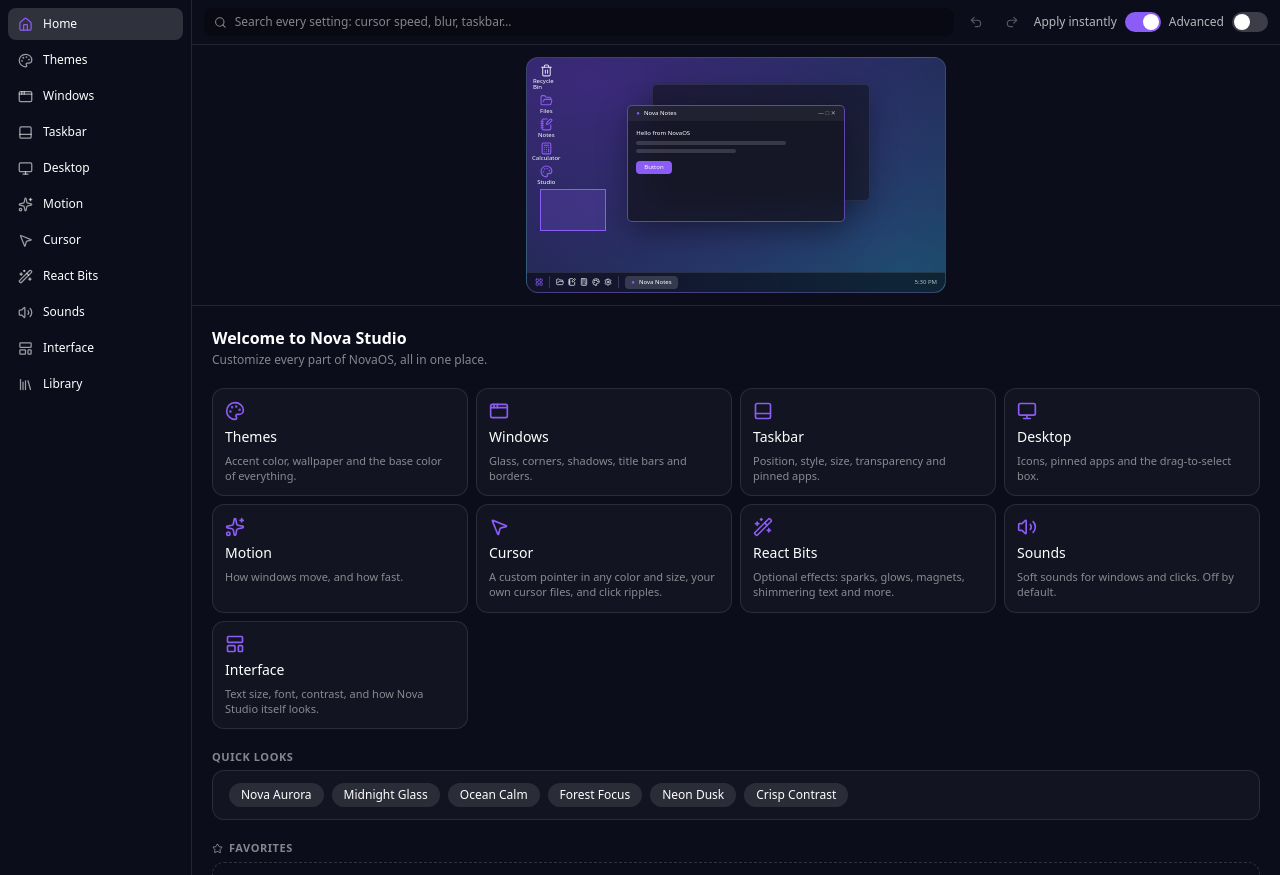
Test: instant apply, undo and redo › dragging a slider is one undo step
Click the button "Windows" at (96, 96), box [8,80,183,112]
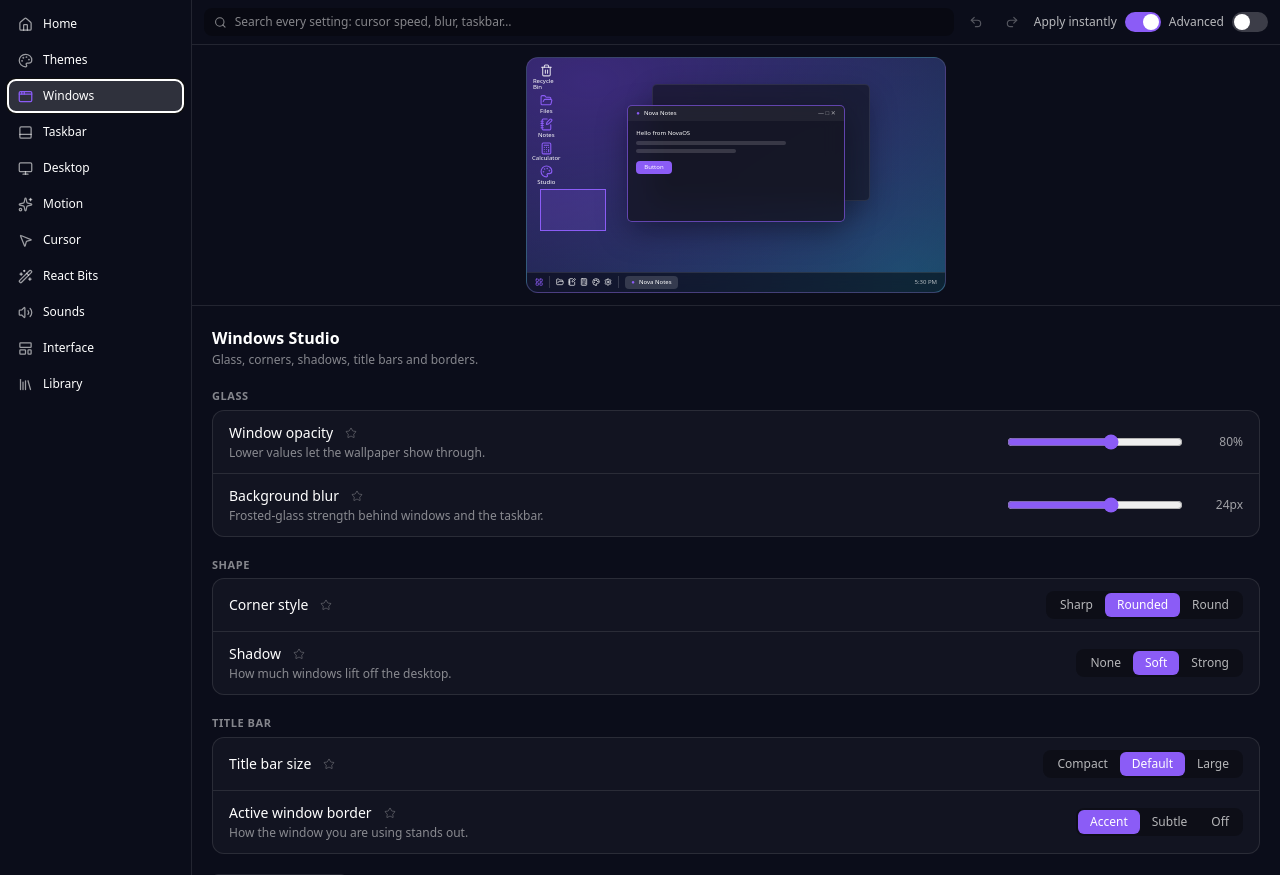
Set the slider named "Window opacity" to "0.7" at (1079, 442), box [1007,434,1183,450]
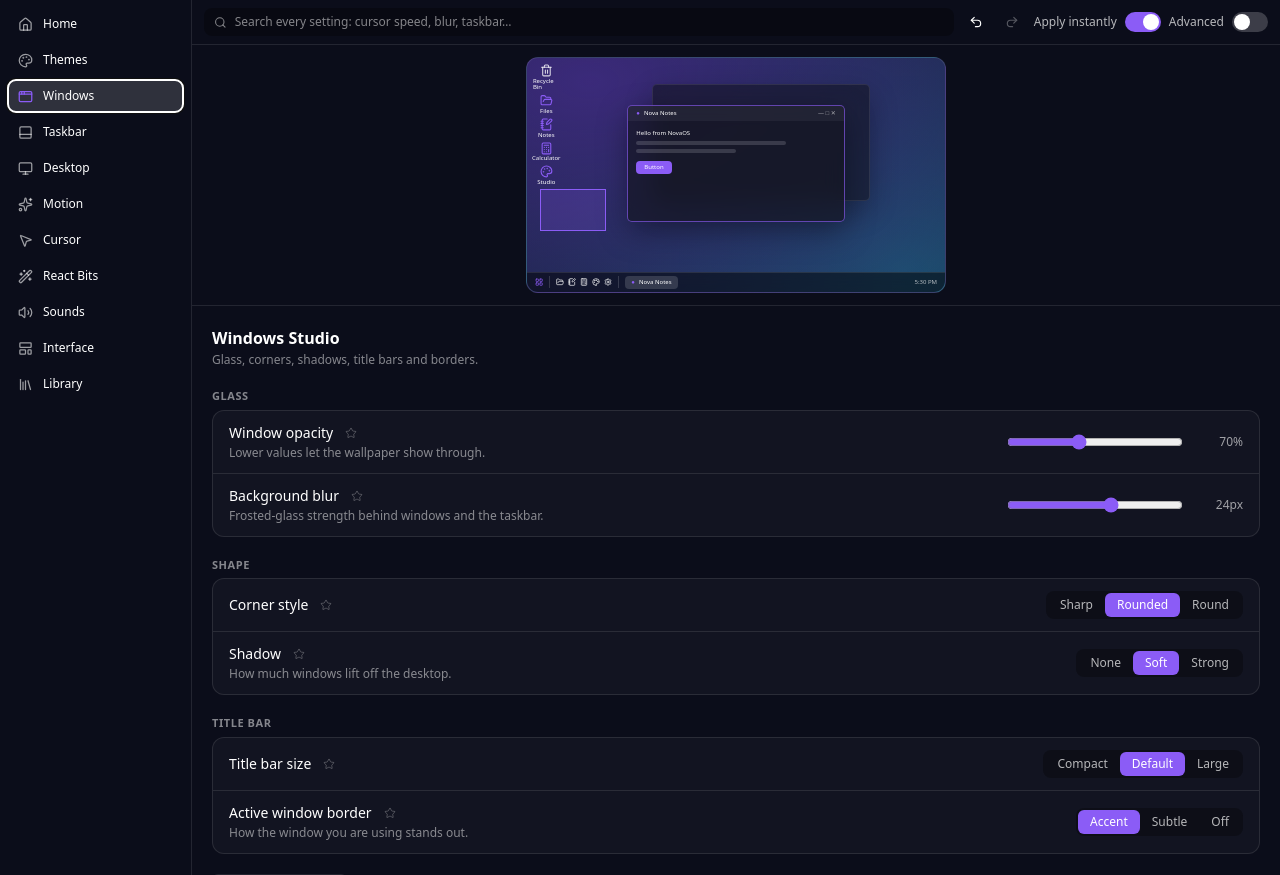
Set the slider named "Window opacity" to "0.6" at (1047, 442), box [1007,434,1183,450]
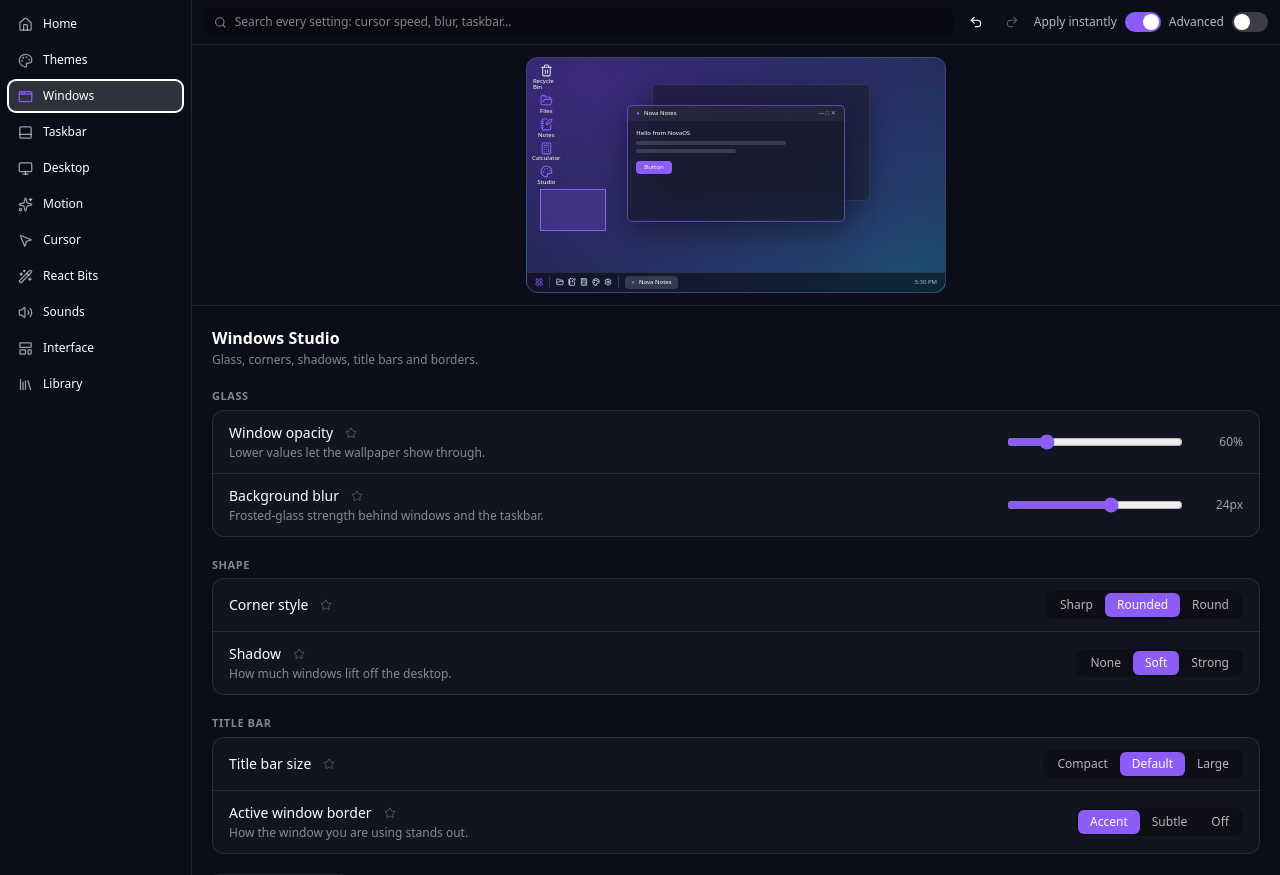
Set the slider named "Window opacity" to "0.55" at (1031, 442), box [1007,434,1183,450]
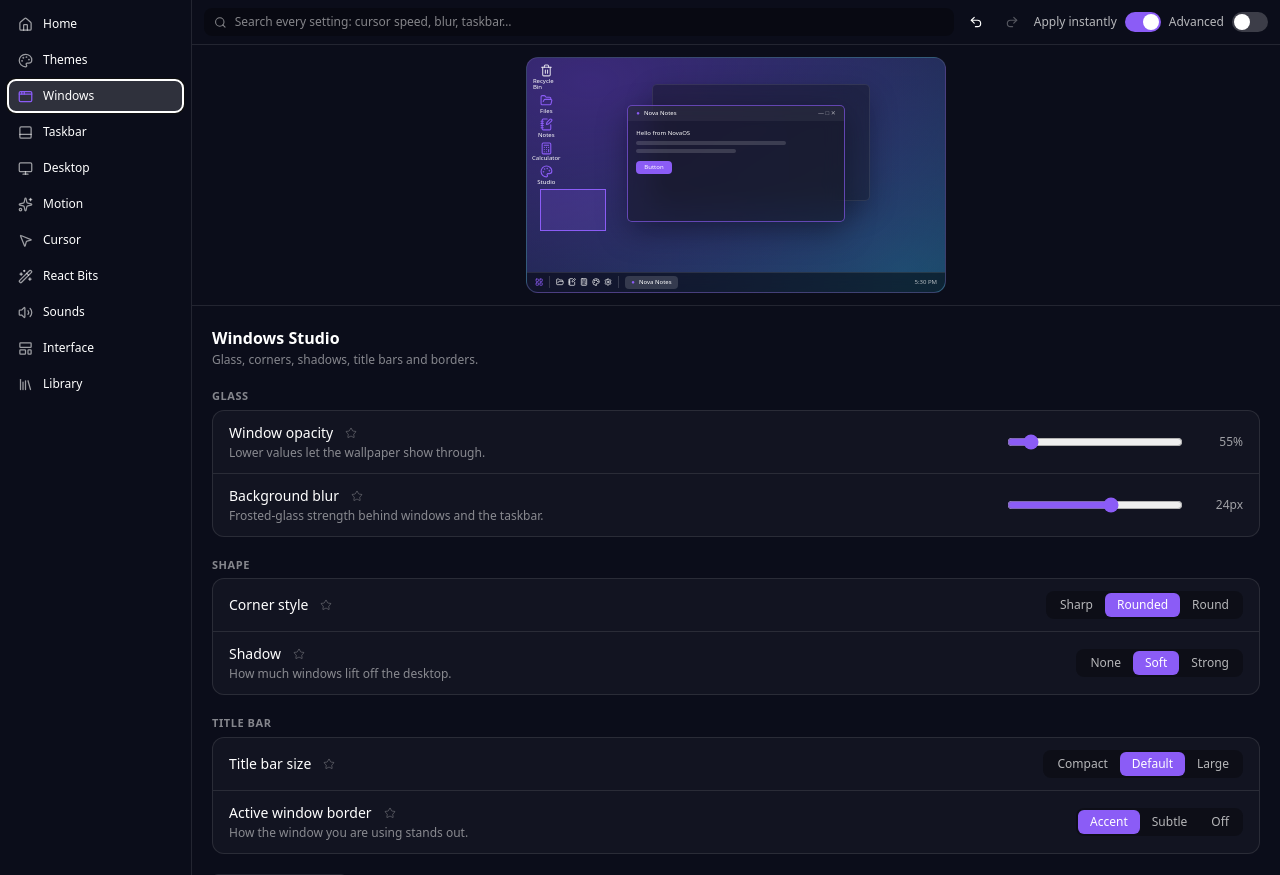
Click the button named "Undo" at (976, 22), box [962,8,990,36]
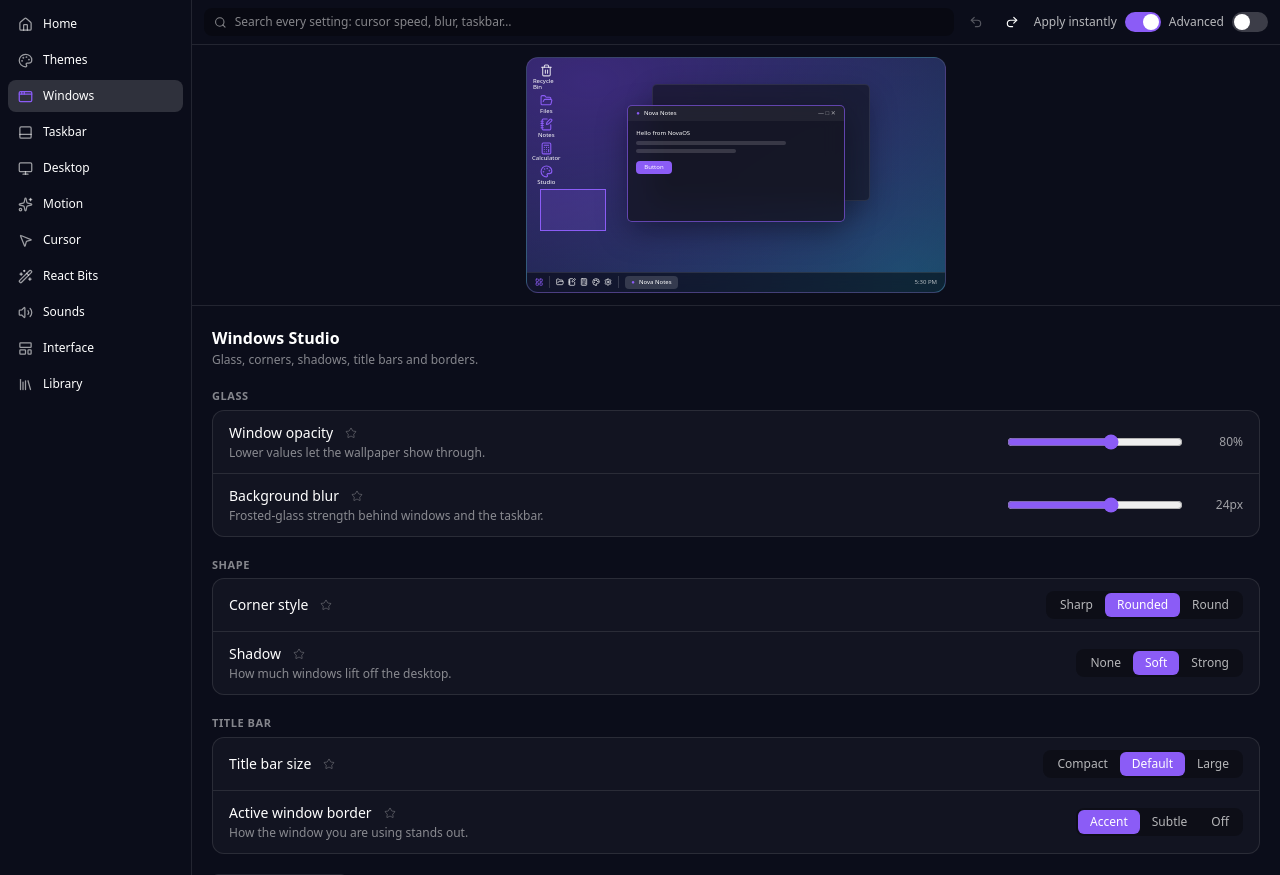
Now the button named "Undo" is disabled, box [962,8,990,36]
